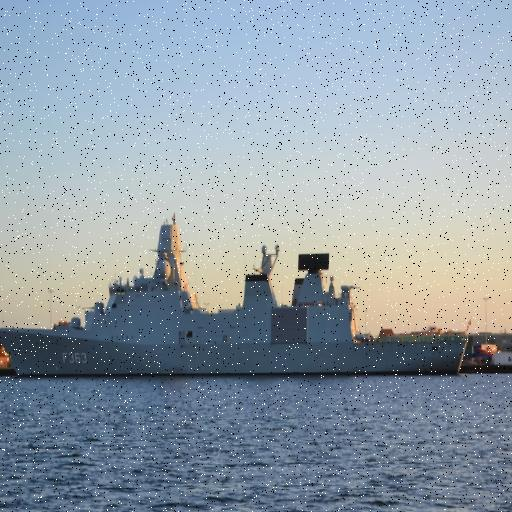Fragata: (1, 204, 470, 383)
